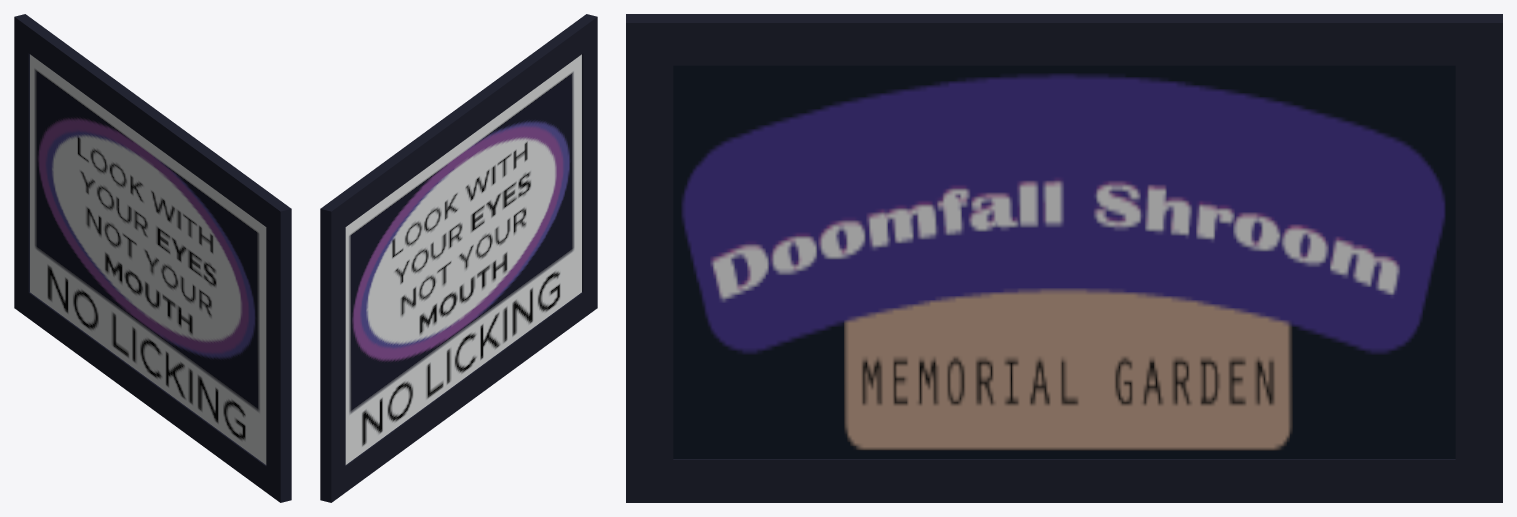
File: Sign_ShroomMemorialsmall01.fbx
The picture shows the model from 3 angles, left to right: view 1: azimuth 30°, elevation 25°; view 2: azimuth 150°, elevation 25°; view 3: azimuth 270°, elevation 25°; orthographic projection. The views are drawn at different scales.
Visible parts, largest first — view 1: Cube.644; view 2: Cube.644; view 3: Cube.644.
Part boxes in pixels (x1,y1,x2,y2): Cube.644: (14, 14, 291, 502); Cube.644: (320, 14, 597, 502); Cube.644: (626, 14, 1502, 502).
Bounding box in the file's own units: 1.68 × 41.99 × 69.52.
